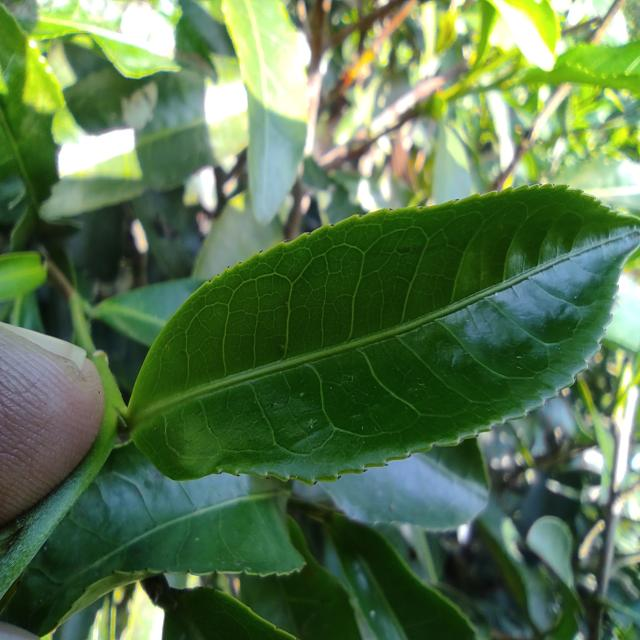Category C(4-7 days): (97, 153, 640, 504)
